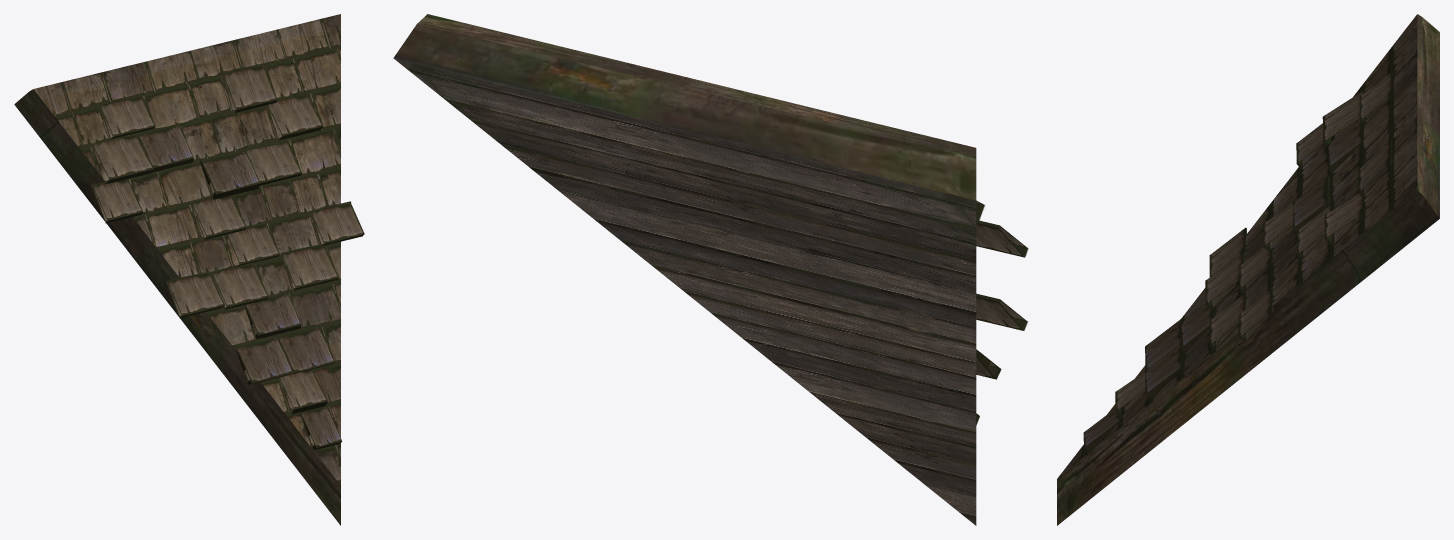
The picture shows the model from 3 angles, left to right: view 1: azimuth 30°, elevation 25°; view 2: azimuth 150°, elevation 25°; view 3: azimuth 270°, elevation 25°; orthographic projection. The views are drawn at different scales.
Parts seen in each view (by area): view 1: SM_BB_T1_Roof_Triangle_Large_LOD0; view 2: SM_BB_T1_Roof_Triangle_Large_LOD0; view 3: SM_BB_T1_Roof_Triangle_Large_LOD0.
Part boxes in pixels (box(x1,y1,x2,y2)): SM_BB_T1_Roof_Triangle_Large_LOD0: box(14, 14, 364, 525); SM_BB_T1_Roof_Triangle_Large_LOD0: box(393, 14, 1028, 525); SM_BB_T1_Roof_Triangle_Large_LOD0: box(1057, 14, 1439, 525).
Bounding box in the file's own units: 3.19 × 3.37 × 2.76.
Materials: 3 (3 with a texture image).
